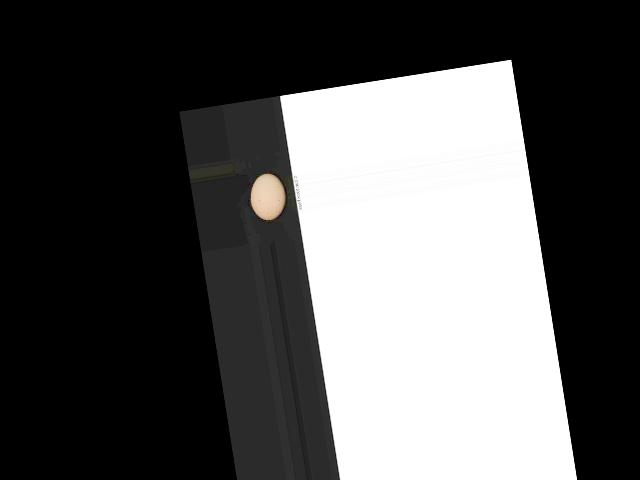egg: (247, 171, 289, 222)
